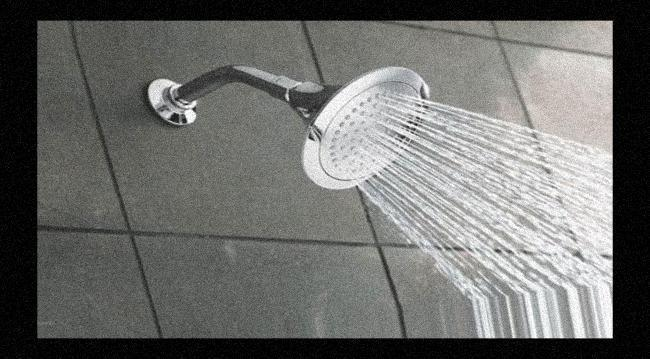Ducha: (38, 21, 612, 338)
